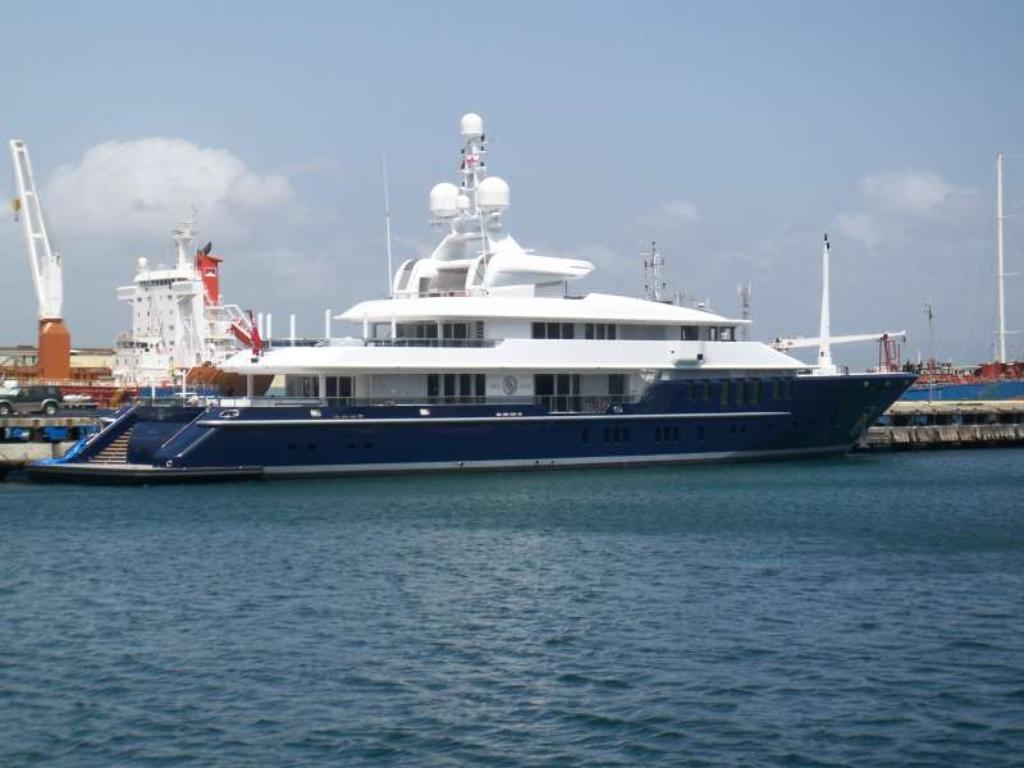PassengerShip: (13, 108, 925, 494)
